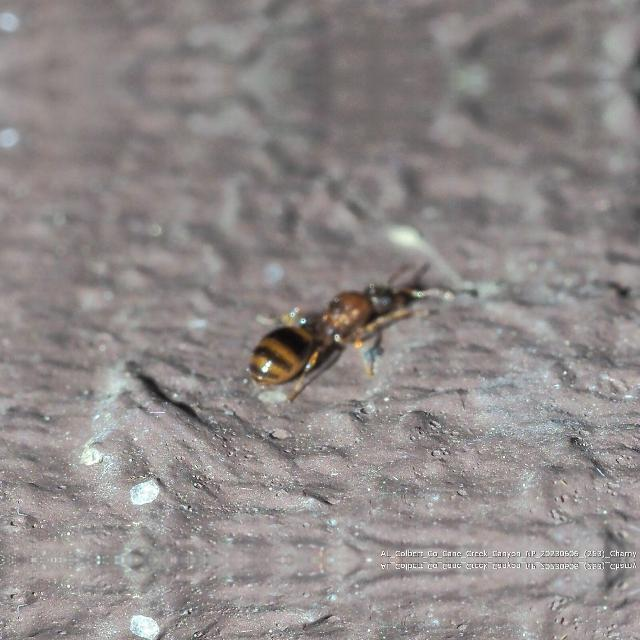Temnothorax: (233, 254, 425, 408)
